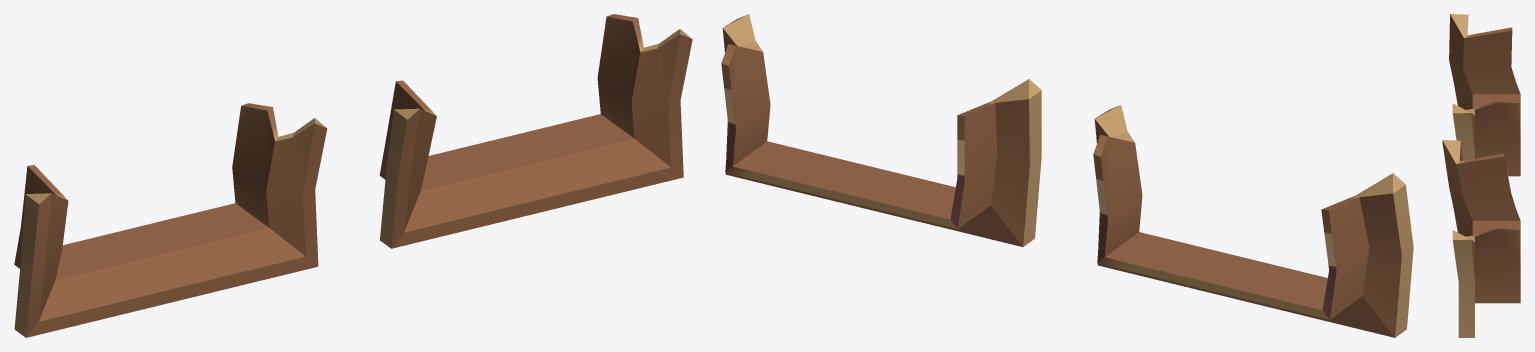
File: DBK_WinDouble_Trim_C_Tile.fbx
3 renders of one model, left to right at view 1: azimuth 30°, elevation 25°; view 2: azimuth 150°, elevation 25°; view 3: azimuth 270°, elevation 25°, orthographic. The views are drawn at different scales.
Visible parts, largest first — view 1: DBK_WinDouble_Trim_C_Tile; view 2: DBK_WinDouble_Trim_C_Tile; view 3: DBK_WinDouble_Trim_C_Tile.
Part boxes in pixels (x1,y1,x2,y2): DBK_WinDouble_Trim_C_Tile: (14,14,692,337); DBK_WinDouble_Trim_C_Tile: (721,14,1413,337); DBK_WinDouble_Trim_C_Tile: (1442,14,1520,337).
Size of the model in its own units: 181 by 38.74 by 26.16.
